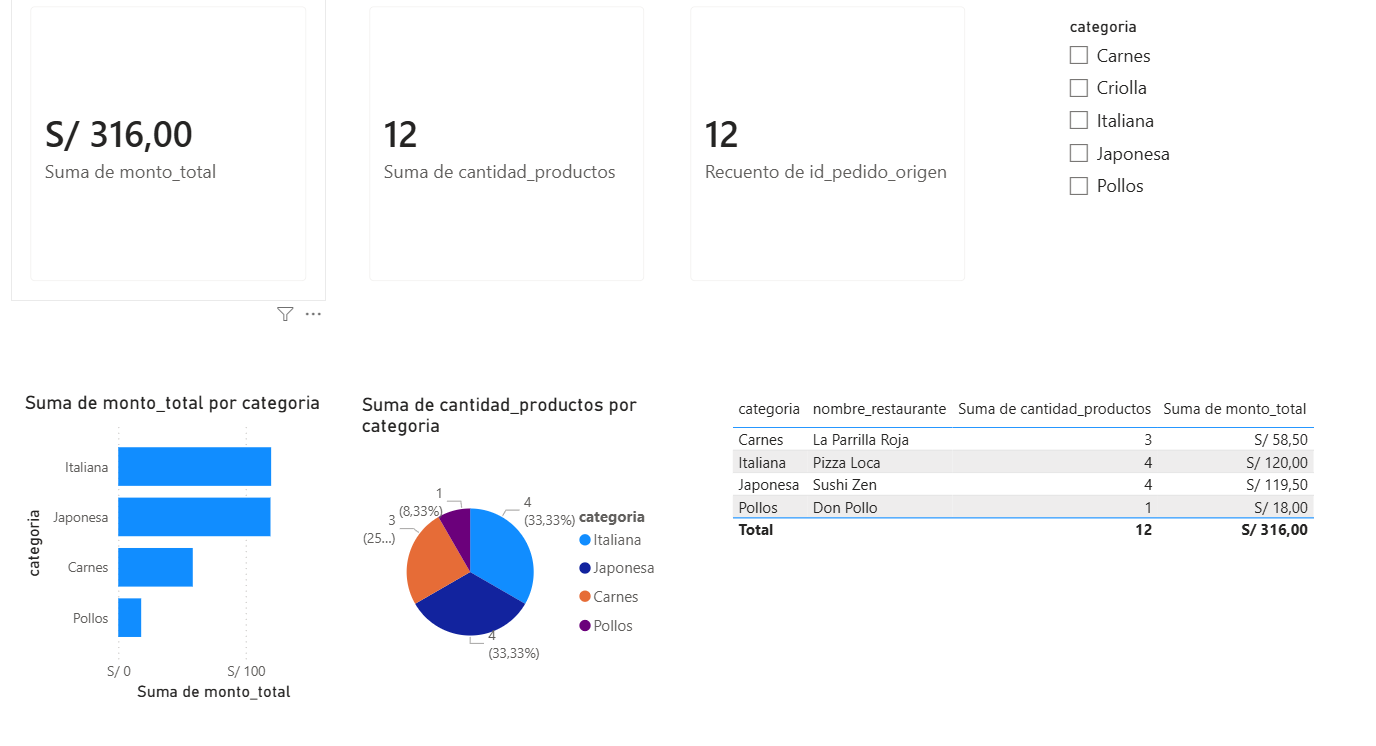

This screenshot's page, from the dashboard's own definition file:
{"tool":"powerbi","page":{"name":"Página 3","canvas":[1280,720],"ordinal":2},"visuals":[{"type":"cardVisual","fields":{"Data":["Sum(Fact_Pedidos.monto_total)"]},"box":[19.1,0,279.5,278.5],"z":0},{"type":"cardVisual","fields":{"Data":["Sum(Fact_Pedidos.cantidad_productos)"]},"box":[320.5,0,278.5,278.5],"z":1},{"type":"cardVisual","fields":{"Data":["CountNonNull(Fact_Pedidos.id_pedido_origen)"]},"box":[604.7,0,278.5,278.5],"z":2},{"type":"barChart","fields":{"Category":["Dim_Restaurante.categoria","Dim_Restaurante.nombre_restaurante"],"Y":["Sum(Fact_Pedidos.monto_total)"]},"box":[26.7,358.6,279.5,279.5],"z":3},{"type":"pieChart","fields":{"Category":["Dim_Restaurante.categoria"],"Y":["Sum(Fact_Pedidos.cantidad_productos)"]},"box":[325.2,359.6,279.5,279.5],"z":4},{"type":"slicer","fields":{"Values":["Dim_Restaurante.categoria"]},"box":[945.2,21.9,203.2,278.5],"z":5},{"type":"tableEx","fields":{"Values":["Dim_Restaurante.categoria","Dim_Restaurante.nombre_restaurante","Sum(Fact_Pedidos.cantidad_productos)","Sum(Fact_Pedidos.monto_total)"]},"box":[653.4,358.6,538.9,278.5],"z":6}]}

Visuals, with their boxes on the page's 1280x720 design canvas (x1, y1, x2, y2). These are canvas units, not pixel positions in the 1376x746 screenshot, which may show the page scaled, cropped or inside an application window:
cardVisual - Sum(Fact_Pedidos.monto_total): [19,0,299,278]
cardVisual - Sum(Fact_Pedidos.cantidad_productos): [320,0,599,278]
cardVisual - CountNonNull(Fact_Pedidos.id_pedido_origen): [605,0,883,278]
barChart - Dim_Restaurante.categoria x Dim_Restaurante.nombre_restaurante: [27,359,306,638]
pieChart - Dim_Restaurante.categoria x Sum(Fact_Pedidos.cantidad_productos): [325,360,605,639]
slicer - Dim_Restaurante.categoria: [945,22,1148,300]
tableEx - Dim_Restaurante.categoria x Dim_Restaurante.nombre_restaurante: [653,359,1192,637]
